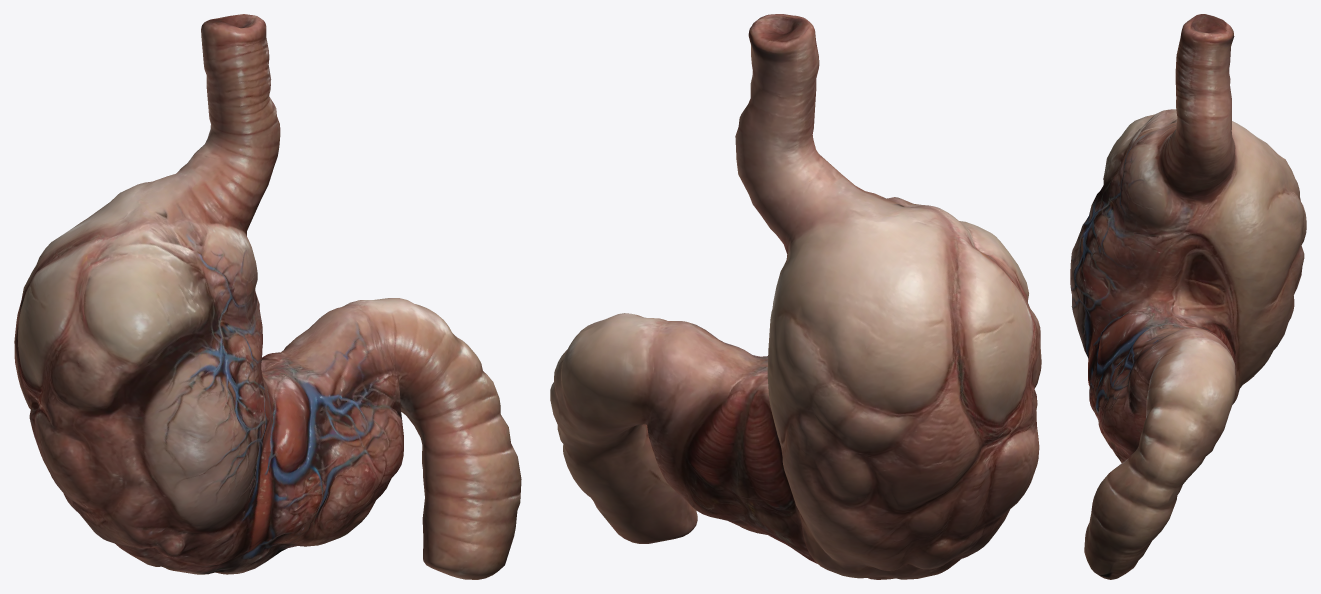
Rendered from stomach.glb.
3 renders of one model, left to right at view 1: azimuth 30°, elevation 25°; view 2: azimuth 150°, elevation 25°; view 3: azimuth 270°, elevation 25°, orthographic. The views are drawn at different scales.
Parts seen in each view (by area): view 1: Mesh1_Mesh1.114_Material.001_0; view 2: Mesh1_Mesh1.114_Material.001_0; view 3: Mesh1_Mesh1.114_Material.001_0.
Part boxes in pixels (x1,y1,x2,y2): Mesh1_Mesh1.114_Material.001_0: (14,14,521,579); Mesh1_Mesh1.114_Material.001_0: (550,14,1041,579); Mesh1_Mesh1.114_Material.001_0: (1070,14,1306,579).
Bounding box in the file's own units: 1.66 × 1.99 × 0.8961.
1 material, 1 textured.
